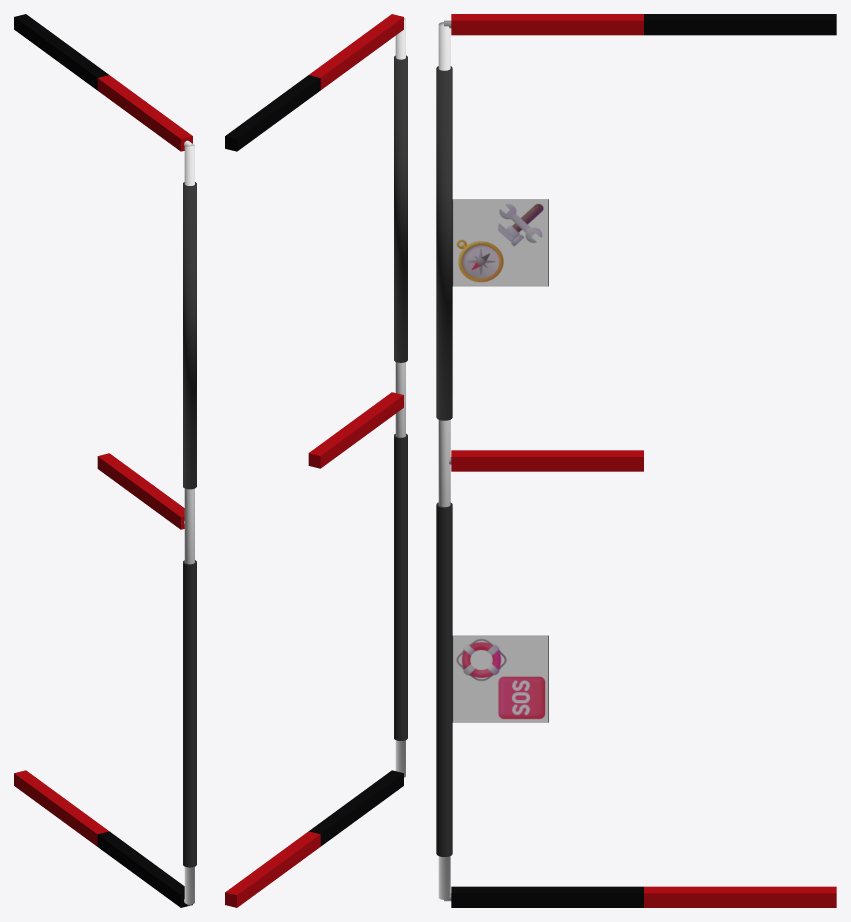
File: gate.glb
3 renders of one model, left to right at view 1: azimuth 30°, elevation 25°; view 2: azimuth 150°, elevation 25°; view 3: azimuth 270°, elevation 25°, orthographic. The views are drawn at different scales.
Parts seen in each view (by area): view 1: Cylinder.005, Cylinder.004, Cube.003, Cube.001, Cube.004, Cube.002, Cube, Cylinder; view 2: Cylinder.004, Cylinder.005, Cube.002, Cube.004, Cube, Cube.001, Cube.003, Cylinder; view 3: Task1_SearchRescue, Task1_SurveyRepair, Cylinder.005, Cylinder.004, Cube.002, Cube.003, Cube, Cube.001, Cube.004, Cylinder.
Part boxes in pixels (<box>): Cylinder.005: <box>183,182,196,489</box>; Cylinder.004: <box>183,560,196,867</box>; Cube.003: <box>97,75,192,151</box>; Cube.001: <box>97,831,192,907</box>; Cube.004: <box>97,453,184,529</box>; Cube.002: <box>14,14,108,90</box>; Cube: <box>14,770,108,846</box>; Cylinder: <box>184,144,194,904</box>; Cylinder.004: <box>394,433,407,740</box>; Cylinder.005: <box>394,55,407,362</box>; Cube.002: <box>225,75,320,151</box>; Cube.004: <box>308,392,403,468</box>; Cube: <box>225,831,320,907</box>; Cube.001: <box>309,770,403,846</box>; Cube.003: <box>309,14,403,89</box>; Cylinder: <box>395,18,405,777</box>; Task1_SearchRescue: <box>452,635,548,722</box>; Task1_SurveyRepair: <box>452,199,548,286</box>; Cylinder.005: <box>436,66,452,420</box>; Cylinder.004: <box>436,502,452,856</box>; Cube.002: <box>644,14,836,35</box>; Cube.003: <box>451,14,643,35</box>; Cube: <box>644,886,836,907</box>; Cube.001: <box>451,886,643,907</box>; Cube.004: <box>451,450,643,471</box>; Cylinder: <box>438,22,450,899</box>.
Bounding box in the file's own units: 0.0512 × 3.1 × 1.27.
Materials: 6 (2 with a texture image).
